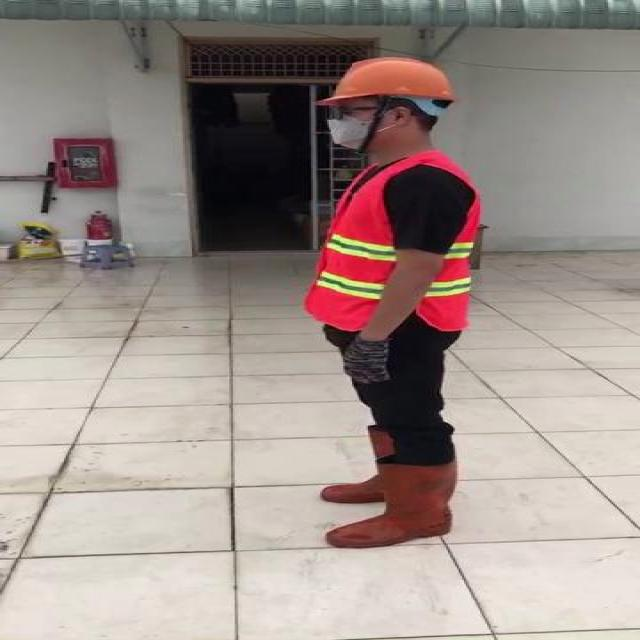boots: (320, 460, 464, 549), (314, 420, 426, 506)
face_mask: (318, 102, 391, 149)
hand_glove: (337, 339, 392, 385)
head_helmet: (316, 56, 456, 106)
person: (275, 55, 505, 558)
vest: (306, 154, 484, 332)
